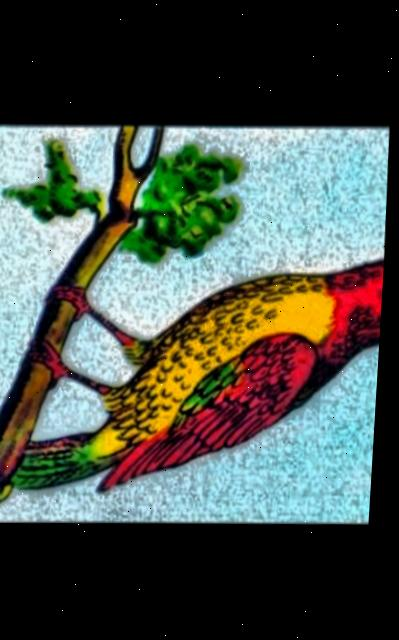El Pajaro: (0, 120, 393, 526)
